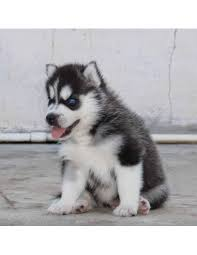Siberian Husky: (21, 45, 179, 221)
